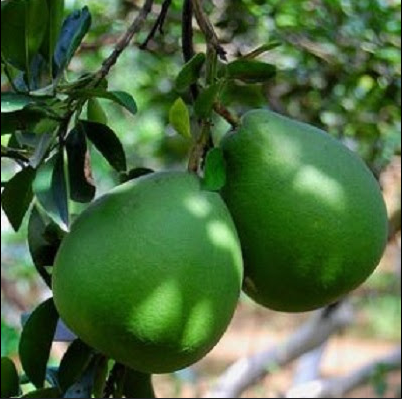buoi: (183, 104, 391, 314), (51, 164, 245, 377)
